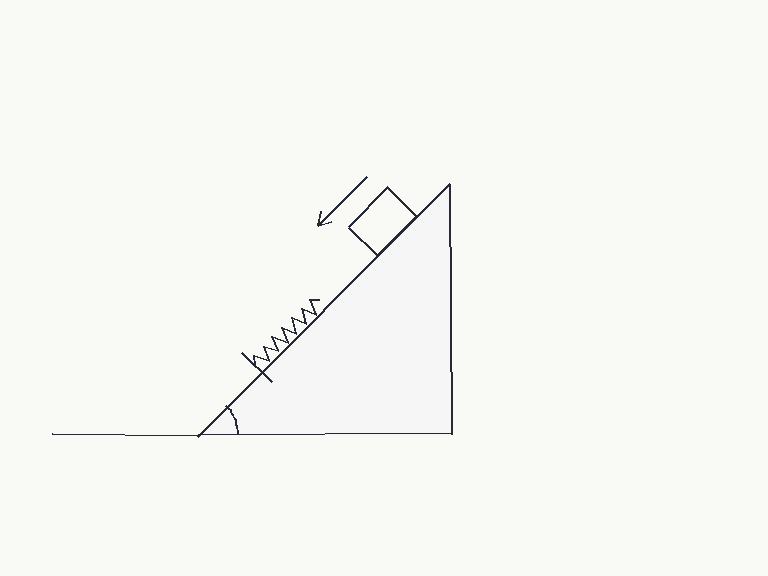block: (346, 185, 418, 257)
ramp: (196, 180, 452, 436)
spring: (252, 297, 322, 367)
